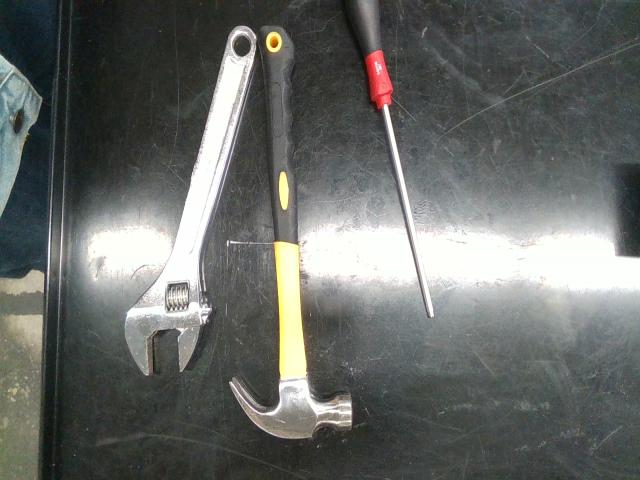Adjustable spanner: (125, 27, 256, 375)
Hammer: (230, 27, 352, 438)
Screwdriver: (347, 0, 434, 318)
